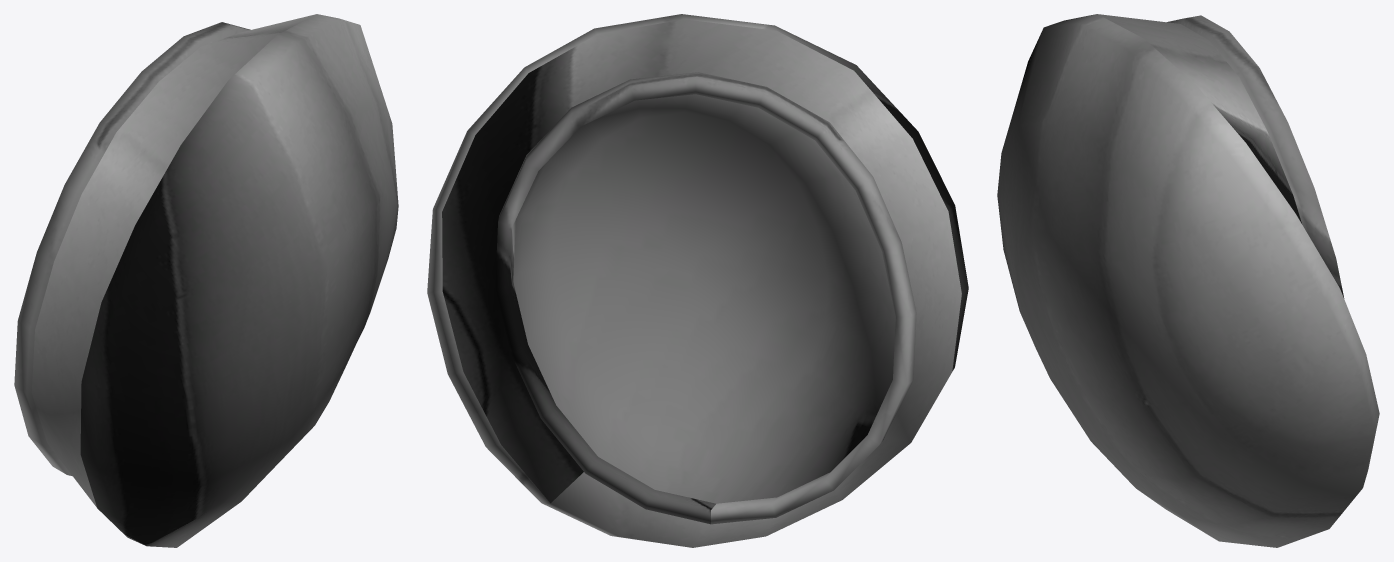
The model's file is Headwear38.glb.
3 views of the same model, side by side, from view 1: azimuth 30°, elevation 25°; view 2: azimuth 150°, elevation 25°; view 3: azimuth 270°, elevation 25° (orthographic). The views are drawn at different scales.
Parts seen in each view (by area): view 1: Headwear38; view 2: Headwear38; view 3: Headwear38.
Boxes of the visible parts, box(x1,y1,x2,y2) form: Headwear38: box(14, 14, 398, 547); Headwear38: box(427, 14, 968, 547); Headwear38: box(997, 14, 1379, 547).
Size of the model in its own units: 2.07 by 2.4 by 1.59.
1 material, 1 textured.
